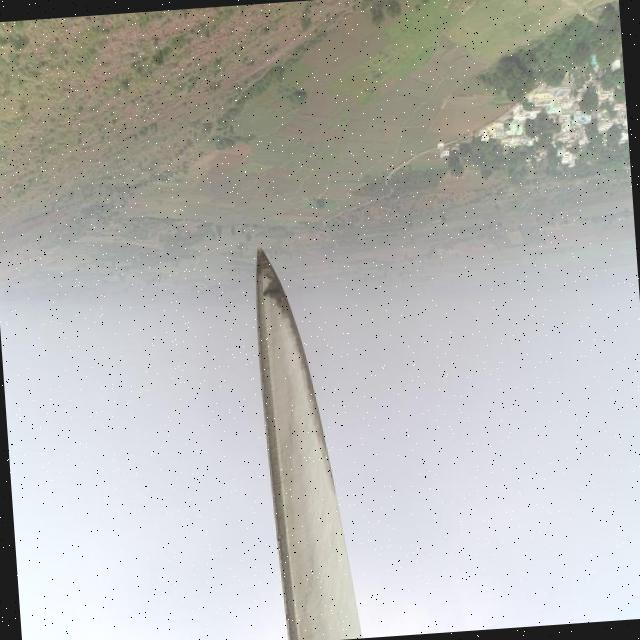Dirt: (260, 250, 341, 502)
Oil LEAKAGE: (260, 254, 300, 324)
